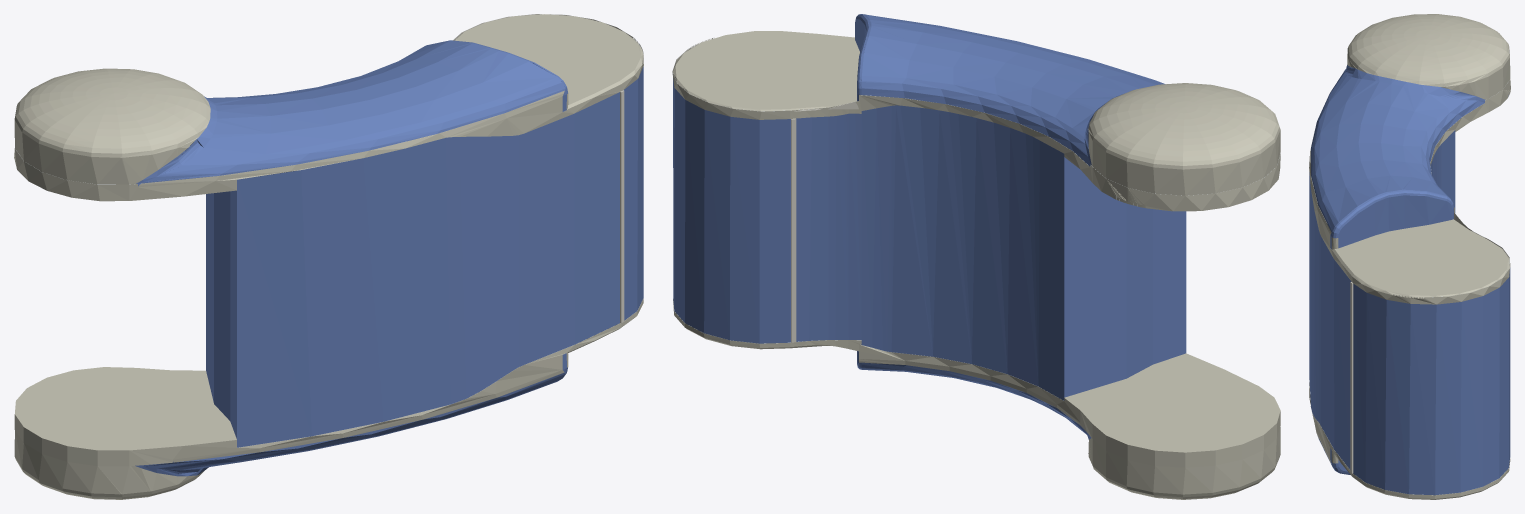
Rendered from torso2.dae.
3 views of the same model, side by side, from view 1: azimuth 30°, elevation 25°; view 2: azimuth 150°, elevation 25°; view 3: azimuth 270°, elevation 25° (orthographic). The views are drawn at different scales.
Visible parts, largest first — view 1: torso-link3_iv__Geometry_1, torso-link3_iv__Geometry_2, torso-link3_iv__Geometry_4; view 2: torso-link3_iv__Geometry_1, torso-link3_iv__Geometry_2, torso-link3_iv__Geometry_4; view 3: torso-link3_iv__Geometry_1, torso-link3_iv__Geometry_2, torso-link3_iv__Geometry_4.
Boxes of the visible parts, left/top/right/bottom form: torso-link3_iv__Geometry_1: left=135, top=40, right=643, bottom=476; torso-link3_iv__Geometry_2: left=14, top=14, right=643, bottom=499; torso-link3_iv__Geometry_4: left=453, top=14, right=642, bottom=323; torso-link3_iv__Geometry_1: left=673, top=14, right=1186, bottom=439; torso-link3_iv__Geometry_2: left=672, top=31, right=1280, bottom=499; torso-link3_iv__Geometry_4: left=672, top=38, right=858, bottom=342; torso-link3_iv__Geometry_1: left=1309, top=65, right=1510, bottom=495; torso-link3_iv__Geometry_2: left=1309, top=14, right=1510, bottom=499; torso-link3_iv__Geometry_4: left=1350, top=207, right=1509, bottom=473.
Bounding box in the file's own units: 0.4201 × 0.1479 × 0.254.
